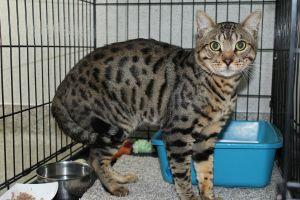bengal: (191, 5, 266, 81)
